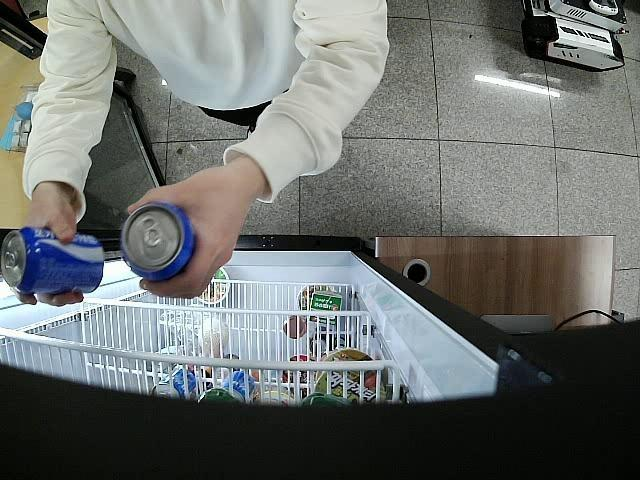13_pocariSweat: (0, 227, 104, 292), (120, 200, 199, 280)
